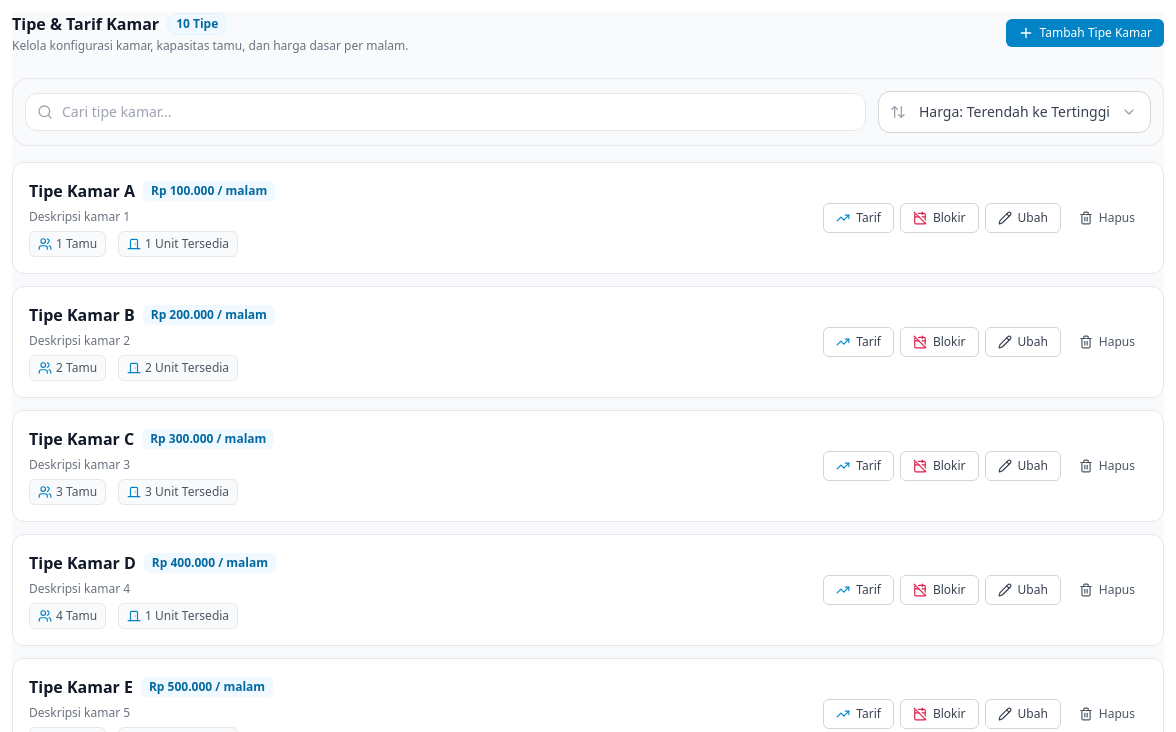
Test: RoomListSection Integration - Search, Sort & Pagination › sorts rooms when changing sort dropdown to price descending
The width and height of the screenshot is (1176, 732).
Expected: the heading "Tipe Kamar A" is shown, 29,179 -> 135,203
Select "Harga: Tertinggi ke Terendah" in the dropdown named "Urutkan kamar" at point(1014, 112), box 878,91 -> 1151,133
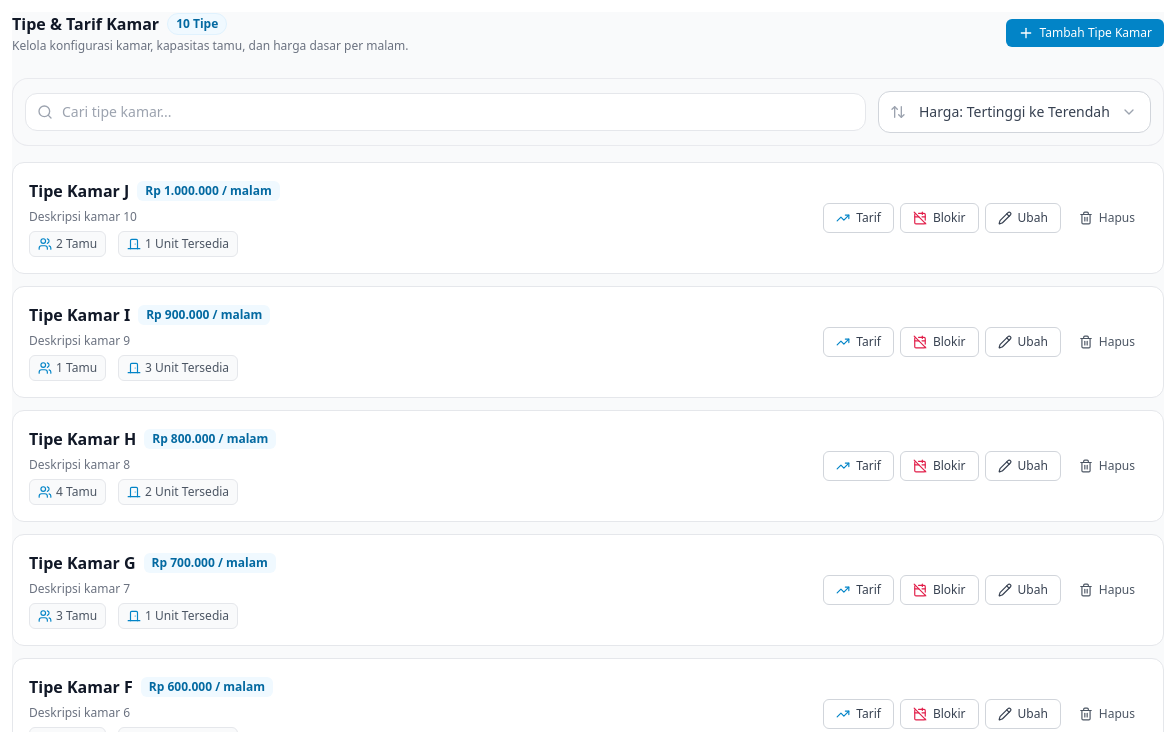
Result: the heading "Tipe Kamar J" is shown at 29,179 -> 129,203
Result: the heading "Tipe Kamar A" is gone
